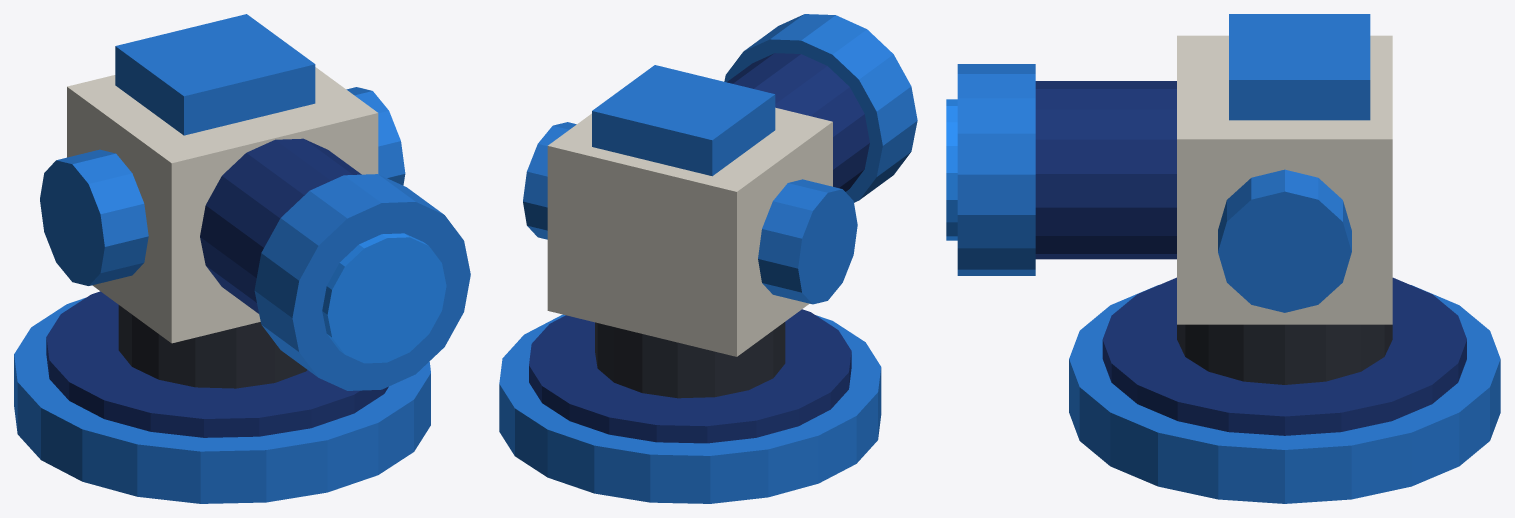
File: laser_cannon_blue.glb
The picture shows the model from 3 angles, left to right: view 1: azimuth 30°, elevation 25°; view 2: azimuth 150°, elevation 25°; view 3: azimuth 270°, elevation 25°; orthographic projection. The views are drawn at different scales.
Visible parts, largest first — view 1: laser_cannon_blue_Base_Main, laser_cannon_blue_Turret_Body, laser_cannon_blue_Barrel_Ring, laser_cannon_blue_Base_Rim, laser_cannon_blue_Turret_Top, laser_cannon_blue_Laser_Lens, laser_cannon_blue_Barrel_Outer, laser_cannon_blue_Side_Cap_L, laser_cannon_blue_Pedestal, laser_cannon_blue_Side_Cap_R; view 2: laser_cannon_blue_Turret_Body, laser_cannon_blue_Base_Main, laser_cannon_blue_Base_Rim, laser_cannon_blue_Turret_Top, laser_cannon_blue_Barrel_Ring, laser_cannon_blue_Side_Cap_L, laser_cannon_blue_Pedestal, laser_cannon_blue_Barrel_Outer, laser_cannon_blue_Side_Cap_R; view 3: laser_cannon_blue_Turret_Body, laser_cannon_blue_Base_Main, laser_cannon_blue_Base_Rim, laser_cannon_blue_Barrel_Outer, laser_cannon_blue_Barrel_Ring, laser_cannon_blue_Side_Cap_R, laser_cannon_blue_Turret_Top, laser_cannon_blue_Pedestal, laser_cannon_blue_Laser_Lens.
Part boxes in pixels (left/top/right/bottom): laser_cannon_blue_Base_Main: left=14, top=297, right=430, bottom=503; laser_cannon_blue_Turret_Body: left=67, top=67, right=378, bottom=343; laser_cannon_blue_Barrel_Ring: left=254, top=174, right=470, bottom=390; laser_cannon_blue_Base_Rim: left=46, top=291, right=388, bottom=437; laser_cannon_blue_Turret_Top: left=115, top=14, right=315, bottom=135; laser_cannon_blue_Laser_Lens: left=322, top=233, right=446, bottom=363; laser_cannon_blue_Barrel_Outer: left=200, top=138, right=361, bottom=313; laser_cannon_blue_Side_Cap_L: left=40, top=149, right=148, bottom=285; laser_cannon_blue_Pedestal: left=118, top=305, right=307, bottom=388; laser_cannon_blue_Side_Cap_R: left=346, top=87, right=405, bottom=185; laser_cannon_blue_Turret_Body: left=547, top=107, right=832, bottom=356; laser_cannon_blue_Base_Main: left=499, top=314, right=881, bottom=503; laser_cannon_blue_Base_Rim: left=529, top=309, right=851, bottom=443; laser_cannon_blue_Turret_Top: left=592, top=65, right=775, bottom=176; laser_cannon_blue_Barrel_Ring: left=724, top=14, right=917, bottom=202; laser_cannon_blue_Side_Cap_L: left=758, top=179, right=857, bottom=304; laser_cannon_blue_Pedestal: left=595, top=322, right=785, bottom=398; laser_cannon_blue_Barrel_Outer: left=727, top=53, right=869, bottom=191; laser_cannon_blue_Side_Cap_R: left=523, top=122, right=576, bottom=239; laser_cannon_blue_Turret_Body: left=1177, top=35, right=1392, bottom=324; laser_cannon_blue_Base_Main: left=1069, top=285, right=1500, bottom=503; laser_cannon_blue_Base_Rim: left=1102, top=277, right=1466, bottom=435; laser_cannon_blue_Barrel_Outer: left=1035, top=81, right=1176, bottom=259; laser_cannon_blue_Barrel_Ring: left=957, top=64, right=1035, bottom=275; laser_cannon_blue_Side_Cap_R: left=1218, top=169, right=1351, bottom=312; laser_cannon_blue_Turret_Top: left=1229, top=14, right=1370, bottom=120; laser_cannon_blue_Pedestal: left=1177, top=324, right=1392, bottom=384; laser_cannon_blue_Laser_Lens: left=946, top=99, right=957, bottom=240.
Size of the model in its own units: 1.16 by 1.09 by 1.49.
